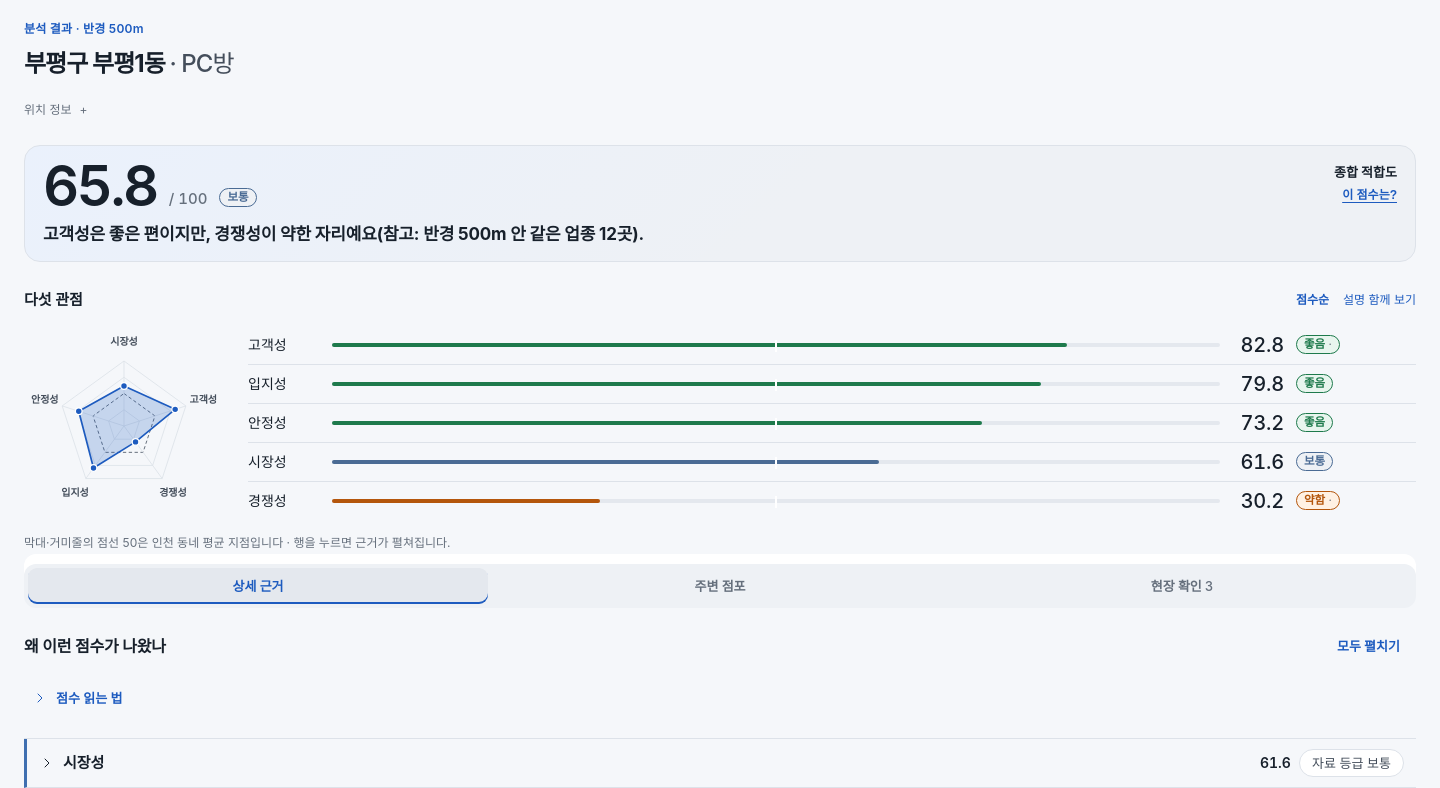
AnalysisResult — 실제 /analyze 응답(부평역 · PC방) › 관점 행을 누르면 근거가 펼쳐지고, "상세 근거 ›"는 상세 근거 탭의 그 관점을 펼치고 그 제목으로 포커스가 간다 (A3 → R1)
The image size is (1440, 788).
Click the 3rd button "좋음": point(1315, 423) top-left (248, 404), bottom-right (1416, 442)
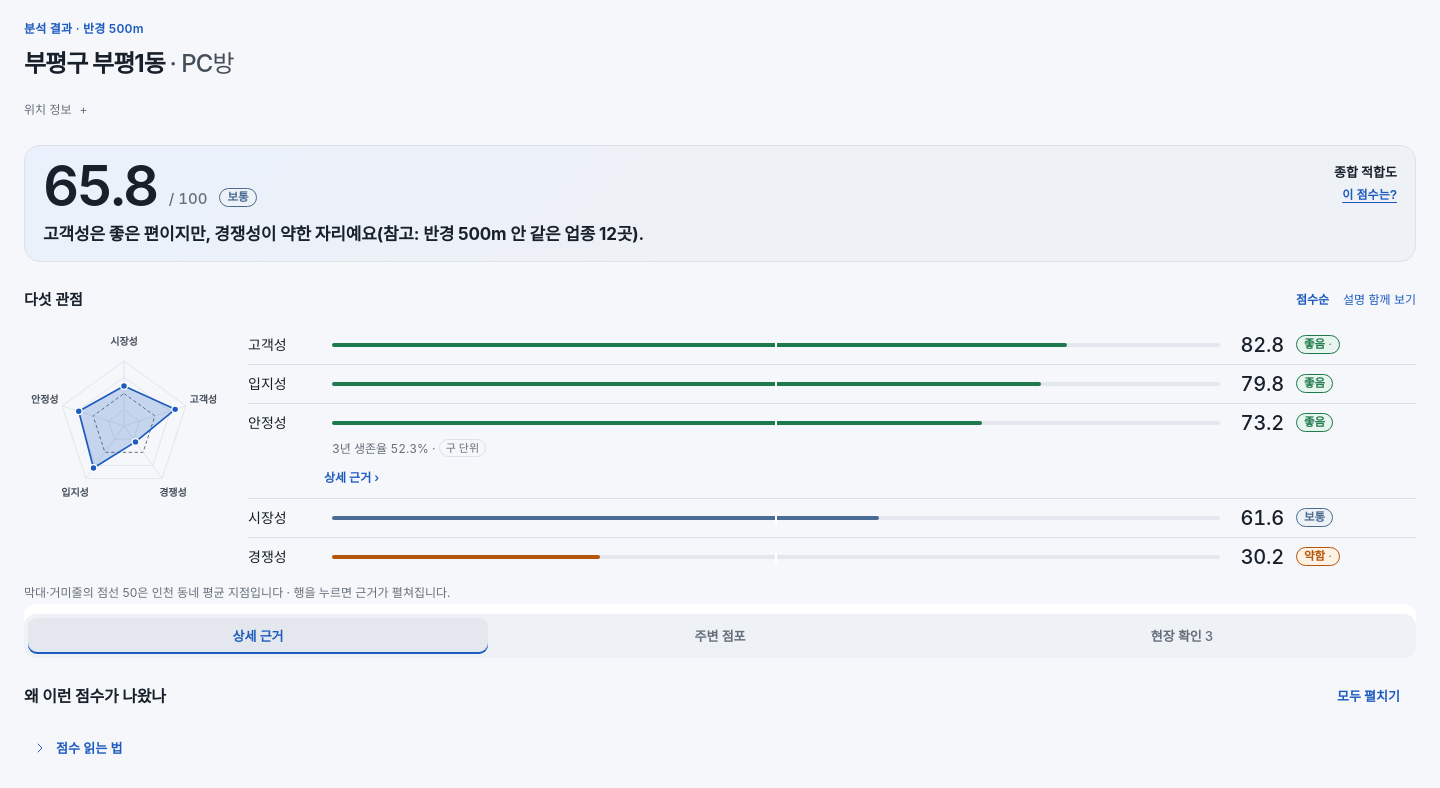
Check: the button "좋음 3년 생존율 52.3% 구 단위" is expanded, box top-left (248, 404), bottom-right (1416, 465)
Click the button "상세 근거 ›": point(352, 478) top-left (324, 466), bottom-right (379, 490)
(page scrolled)
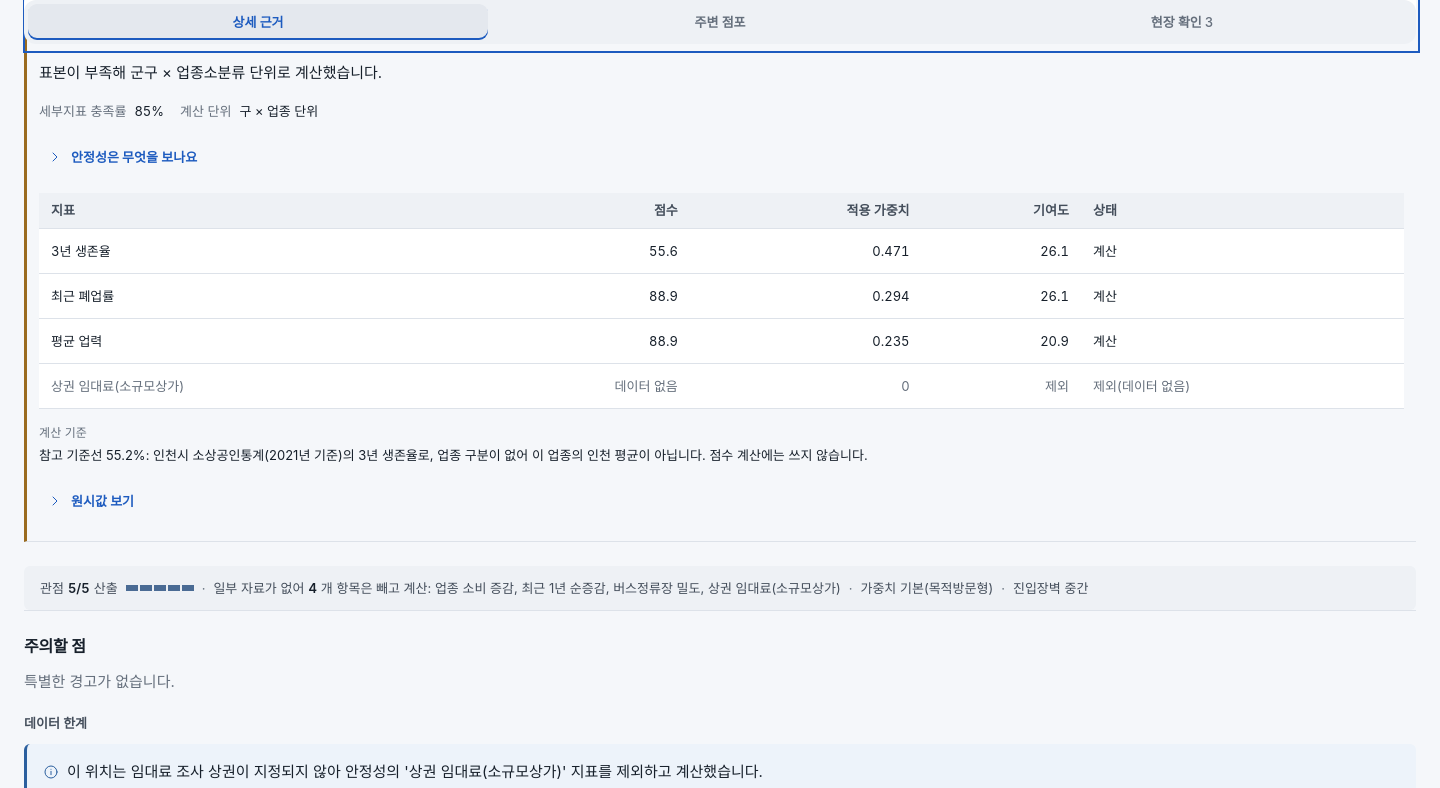
Check: the button with id "detail-toggle-stability" is expanded, box top-left (27, 1), bottom-right (1416, 49)
